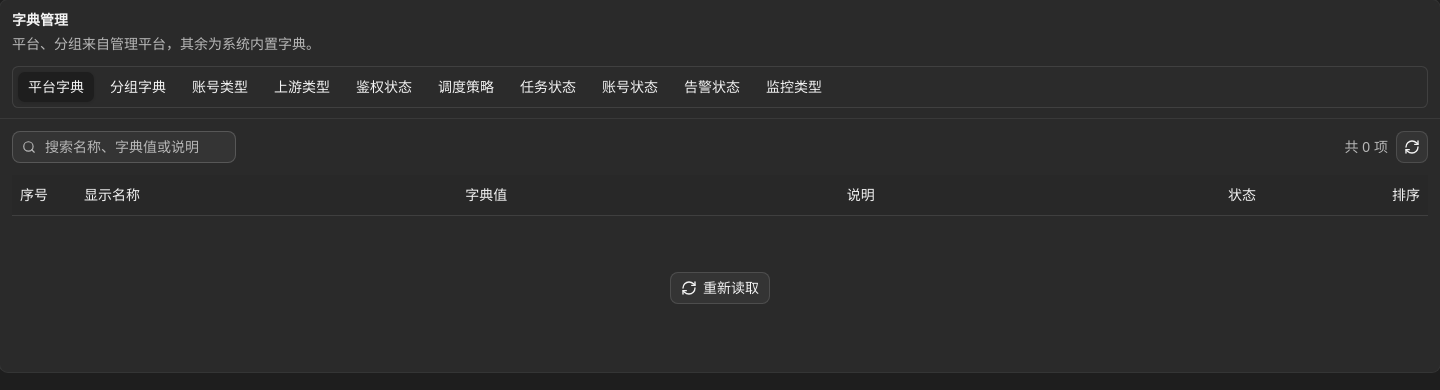
Scenario: 字典读取失败时提供重试，重试成功恢复表格空状态
This screenshot has width=1440, height=390.
Expected: the text "暂无字典数据" is not shown
Click the button "重新读取" at (720, 288), box [670,272,770,304]
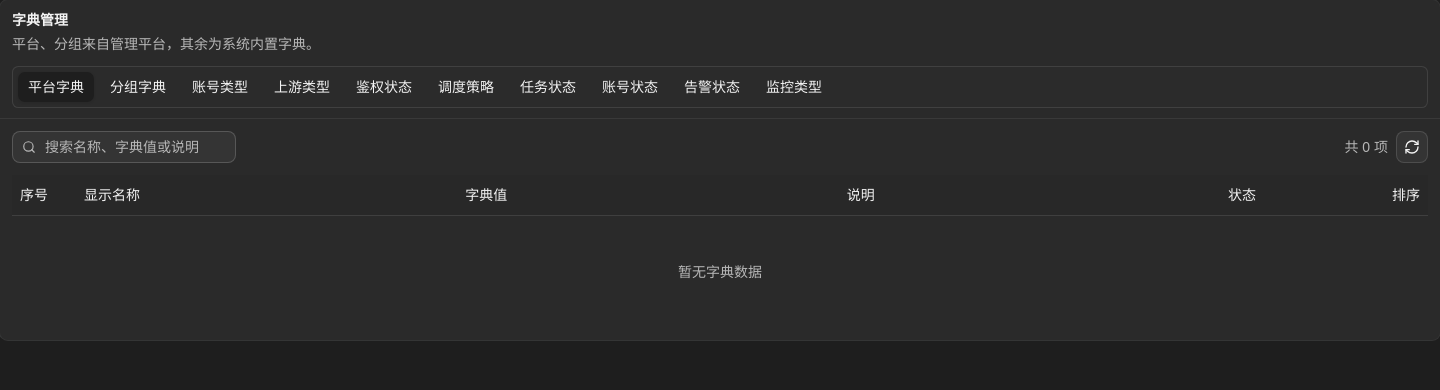
Now the button "重新读取" is gone
Now the text "暂无字典数据" is shown, box [678,264,762,280]
